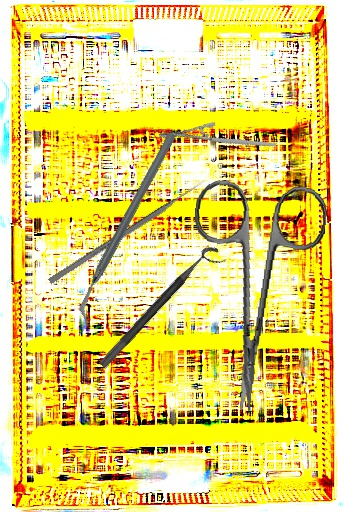Chopper: (22, 128, 233, 326)
Fixation Ring: (98, 241, 228, 379)
Iris Scissors: (174, 176, 330, 419)
Needle Holder: (158, 98, 277, 183)
Pusher: (48, 178, 207, 285)
